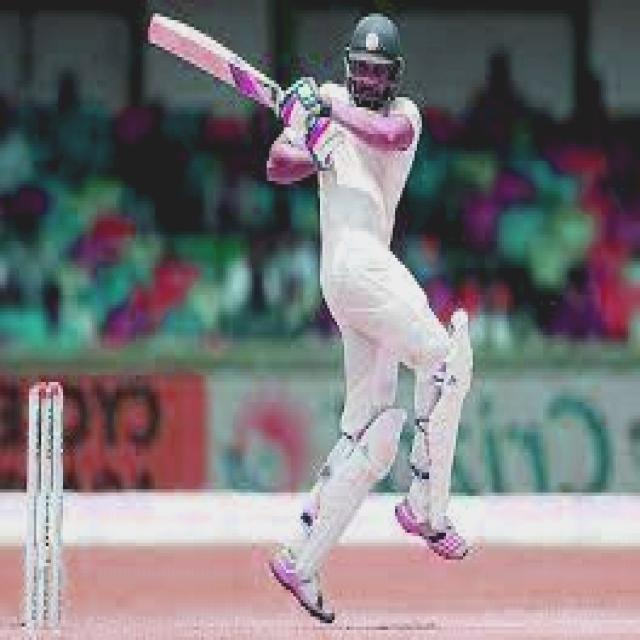toe: (137, 8, 181, 56)
